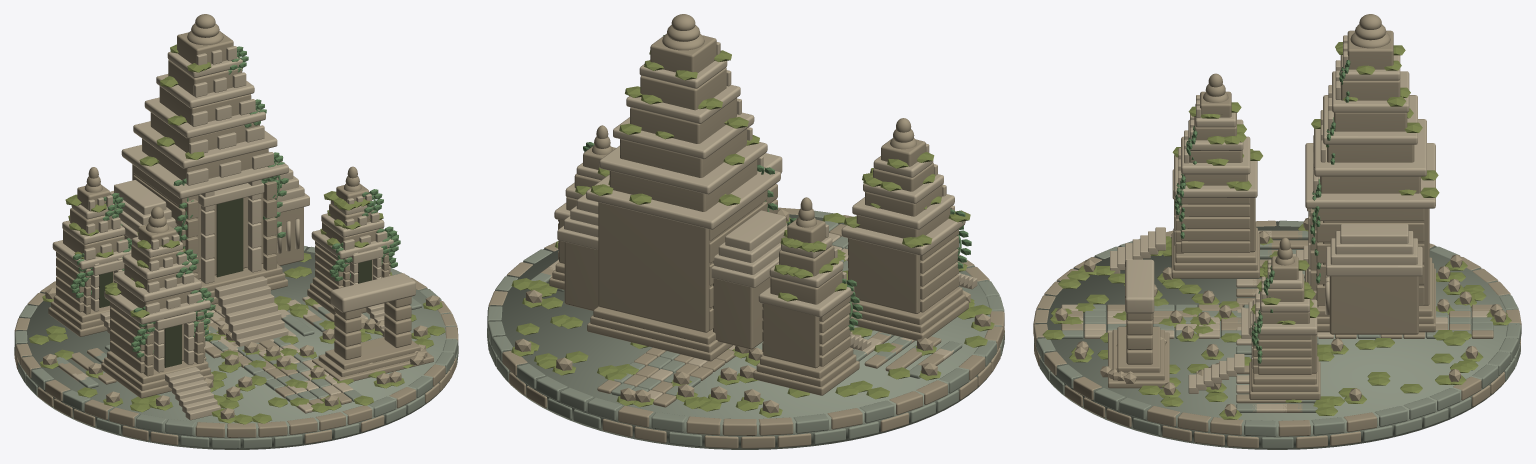
3 views of the same model, side by side, from view 1: azimuth 30°, elevation 25°; view 2: azimuth 150°, elevation 25°; view 3: azimuth 270°, elevation 25° (orthographic). The views are drawn at different scales.
Parts seen in each view (by area): view 1: round ruin diorama base, tower projecting cornice, surviving gateway lintel, deep doorway, tower projecting cornice.001, tower projecting cornice.002, gateway foundation.002, tower stone tier, sanctuary wall, tower stone tier.001, temple side chapel.001, tower stone tier.002 (+32 smaller); view 2: round ruin diorama base, sanctuary wall, sanctuary wall.001, tower projecting cornice, temple side chapel, sanctuary wall.002, tower projecting cornice.001, tower stone tier, tower stone tier.001, temple side chapel.001, tower stone tier.002, tower projecting cornice.002 (+48 smaller); view 3: round ruin diorama base, temple side chapel.001, tower projecting cornice, tower projecting cornice.001, tower stone tier, tower projecting cornice.002, surviving gateway lintel, tower stone tier.001, tower stone tier.002, corner block.009, chapel stepped roof.007, chapel stepped roof.004 (+47 smaller).
Part boxes in pixels (x1=…): round ruin diorama base: x1=16, y1=246, x2=456, y2=449; tower projecting cornice: x1=121, y1=145, x2=288, y2=198; surviving gateway lintel: x1=330, y1=273, x2=415, y2=312; deep doorway: x1=216, y1=198, x2=243, y2=277; tower projecting cornice.001: x1=133, y1=121, x2=277, y2=168; tower projecting cornice.002: x1=144, y1=97, x2=265, y2=138; gateway foundation.002: x1=325, y1=337, x2=420, y2=369; tower stone tier: x1=142, y1=138, x2=268, y2=180; sanctuary wall: x1=132, y1=164, x2=265, y2=279; tower stone tier.001: x1=150, y1=112, x2=259, y2=152; temple side chapel.001: x1=277, y1=207, x2=303, y2=265; tower stone tier.002: x1=159, y1=86, x2=251, y2=124; round ruin diorama base: x1=489, y1=214, x2=1002, y2=449; sanctuary wall: x1=598, y1=202, x2=762, y2=332; sanctuary wall.001: x1=848, y1=238, x2=921, y2=313; tower projecting cornice: x1=586, y1=168, x2=780, y2=229; temple side chapel: x1=713, y1=277, x2=770, y2=349; sanctuary wall.002: x1=763, y1=303, x2=820, y2=368; tower projecting cornice.001: x1=599, y1=142, x2=767, y2=194; tower stone tier: x1=609, y1=159, x2=757, y2=211; tower stone tier.001: x1=620, y1=129, x2=746, y2=177; temple side chapel.001: x1=564, y1=242, x2=598, y2=310; tower stone tier.002: x1=630, y1=98, x2=736, y2=143; tower projecting cornice.002: x1=613, y1=112, x2=754, y2=159; round ruin diorama base: x1=1035, y1=221, x2=1519, y2=449; temple side chapel.001: x1=1329, y1=276, x2=1418, y2=334; tower projecting cornice: x1=1305, y1=143, x2=1435, y2=208; tower projecting cornice.001: x1=1314, y1=119, x2=1426, y2=176; tower stone tier: x1=1320, y1=176, x2=1420, y2=193; tower projecting cornice.002: x1=1323, y1=95, x2=1417, y2=144; surviving gateway lintel: x1=1125, y1=259, x2=1154, y2=313; tower stone tier.001: x1=1327, y1=144, x2=1414, y2=162; tower stone tier.002: x1=1334, y1=112, x2=1407, y2=131; corner block.009: x1=1316, y1=208, x2=1424, y2=220; chapel stepped roof.007: x1=1340, y1=224, x2=1408, y2=243; chapel stepped roof.004: x1=1326, y1=246, x2=1422, y2=276.
Bounding box in the file's own units: 0.9995 × 0.7644 × 0.9995.
